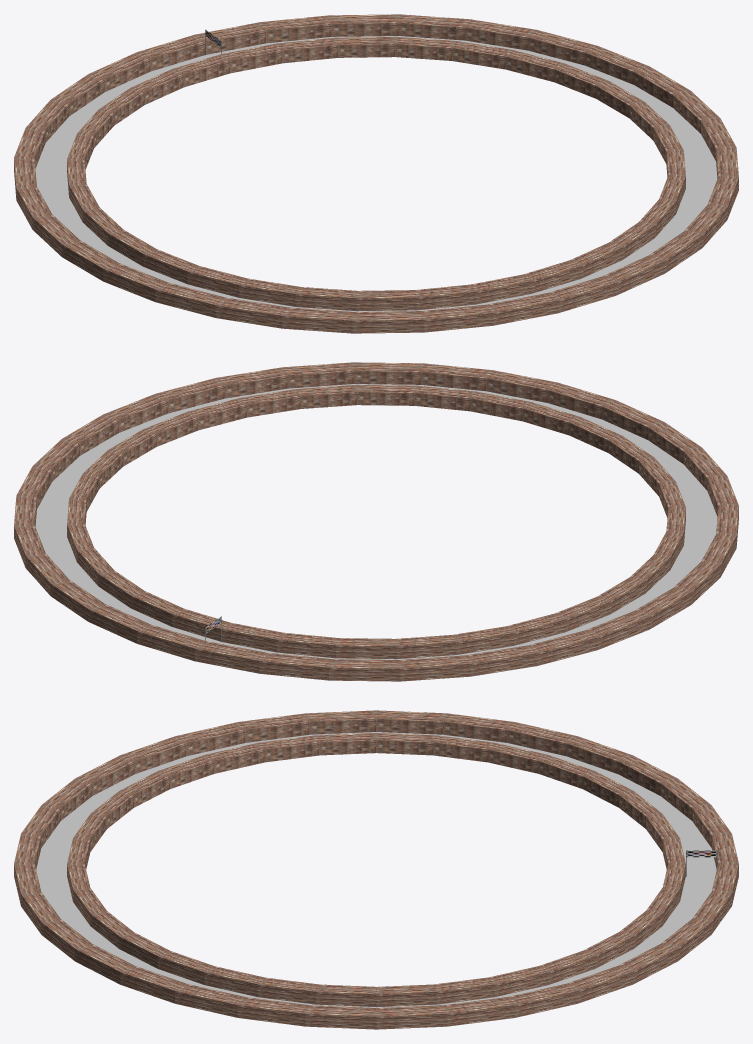
Rendered from racetrack.obj.
The picture shows the model from 3 angles, top to bottom: view 1: azimuth 30°, elevation 25°; view 2: azimuth 150°, elevation 25°; view 3: azimuth 270°, elevation 25°; orthographic projection.
Parts seen in each view (by area): view 1: Circle.000_Circle.006, Circle.002_Circle.007, Circle.001; view 2: Circle.000_Circle.006, Circle.002_Circle.007, Circle.001; view 3: Circle.000_Circle.006, Circle.002_Circle.007, Circle.001.
Part boxes in pixels (x1,y1,x2,y2): Circle.000_Circle.006: [14, 14, 738, 333]; Circle.002_Circle.007: [67, 36, 685, 311]; Circle.001: [35, 36, 717, 311]; Circle.000_Circle.006: [14, 362, 738, 681]; Circle.002_Circle.007: [67, 384, 685, 659]; Circle.001: [35, 384, 717, 659]; Circle.000_Circle.006: [14, 710, 738, 1029]; Circle.002_Circle.007: [67, 732, 685, 1007]; Circle.001: [36, 732, 716, 1007].
Size of the model in its own units: 102 by 4 by 102.
